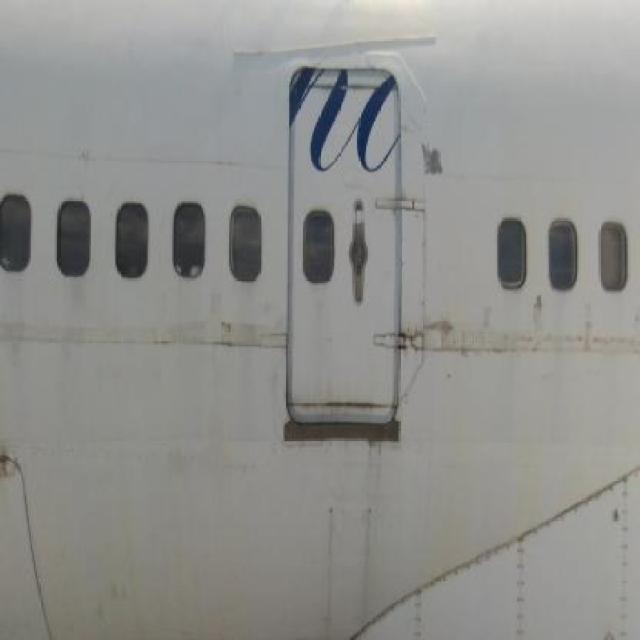Missing-Rivet: (529, 478, 613, 537), (426, 540, 512, 594), (620, 470, 635, 635), (514, 523, 534, 640), (366, 598, 403, 640), (402, 583, 428, 640)
Rust: (313, 497, 344, 635), (388, 312, 435, 388), (212, 298, 254, 380), (356, 504, 384, 610)
Scartch: (276, 439, 418, 524), (524, 288, 562, 380), (477, 293, 514, 372), (576, 296, 610, 381), (429, 306, 471, 369), (417, 121, 451, 190)
